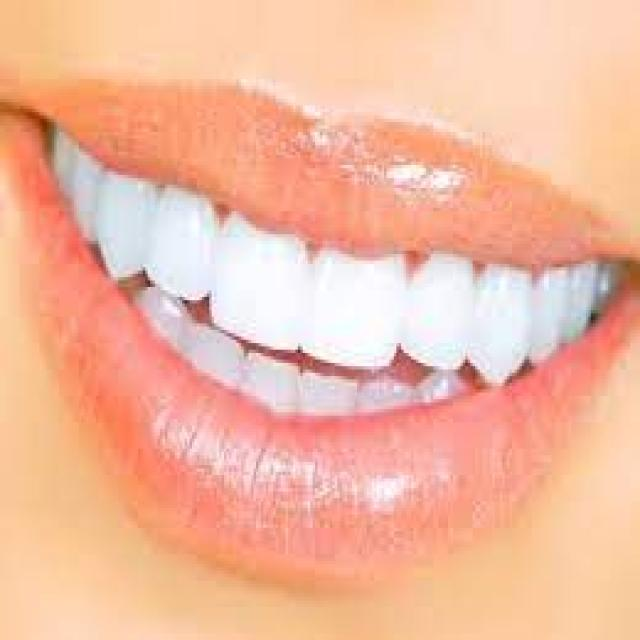tooth: (217, 218, 296, 346), (310, 251, 396, 363), (473, 261, 529, 389), (409, 254, 465, 370), (162, 178, 207, 297), (98, 168, 146, 271), (244, 350, 293, 409), (192, 323, 239, 383), (532, 267, 561, 360), (146, 284, 194, 333), (562, 261, 588, 333), (74, 148, 96, 231), (359, 376, 414, 409), (298, 373, 340, 412), (52, 126, 76, 192), (586, 260, 615, 306), (418, 376, 468, 393)
